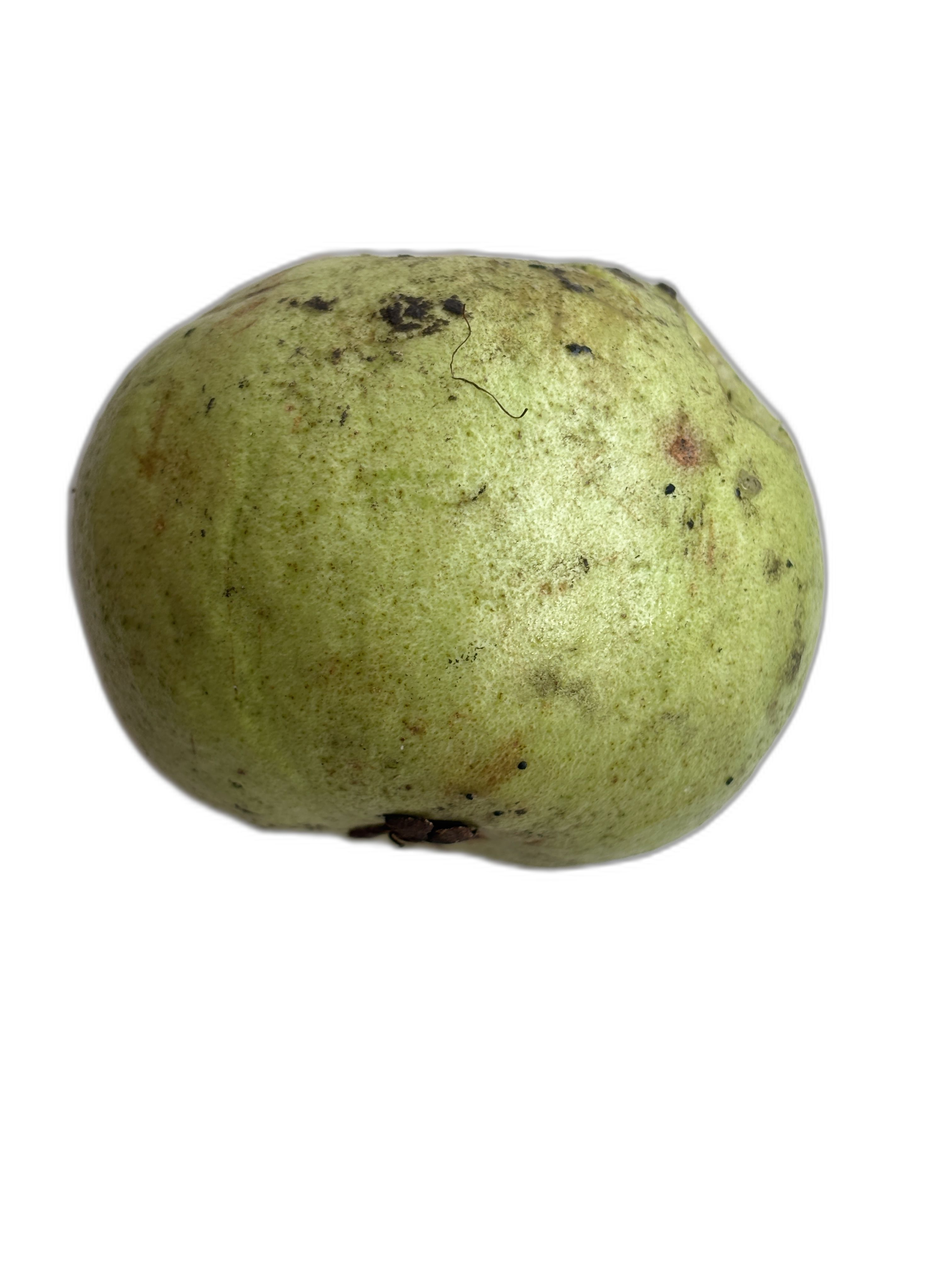guava: (149, 0, 897, 1139)
